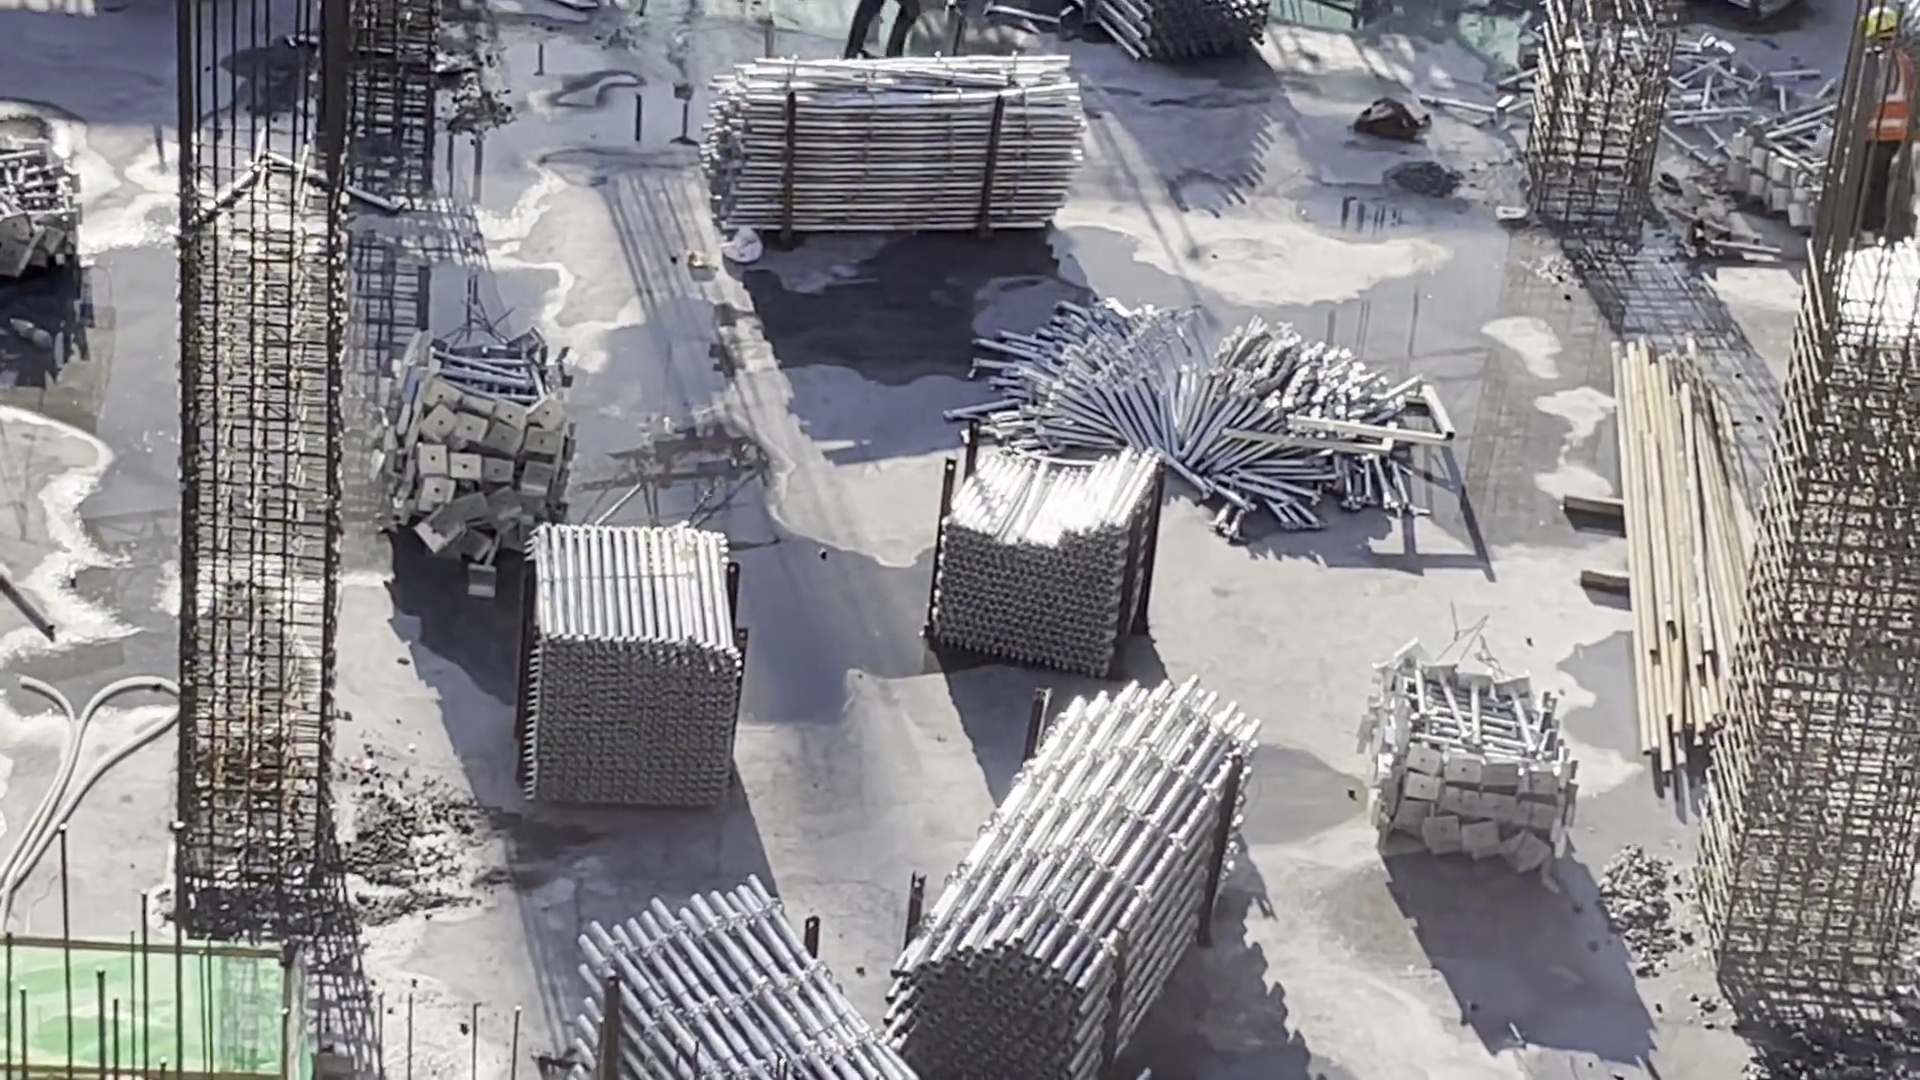helmet: (1869, 6, 1906, 46)
person: (1852, 26, 1920, 256)
scaffold: (911, 694, 1257, 1068), (991, 294, 1391, 526), (707, 51, 1092, 247), (576, 876, 920, 1080), (528, 523, 761, 811), (942, 428, 1150, 671), (391, 323, 599, 559), (1368, 652, 1575, 873), (1725, 102, 1871, 211), (1, 150, 95, 289), (1123, 1, 1283, 64)
vest: (1859, 52, 1914, 145)
